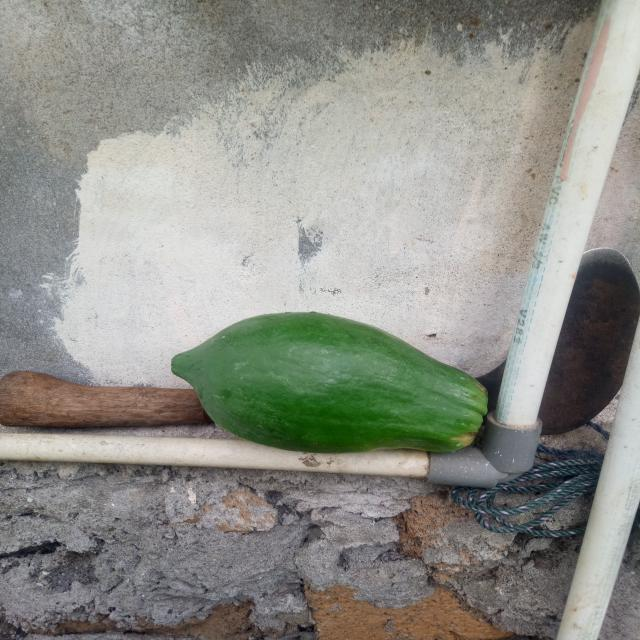Pepaya unrippen: (171, 312, 496, 462)
